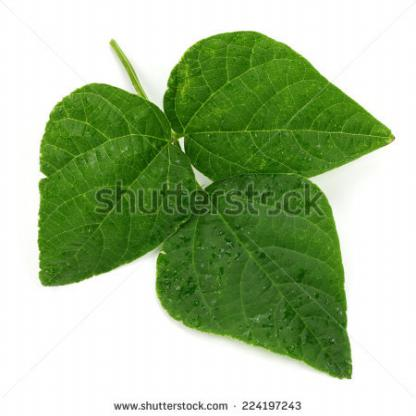Soybean leaf: (151, 164, 358, 385), (163, 23, 400, 189), (33, 82, 197, 291)
